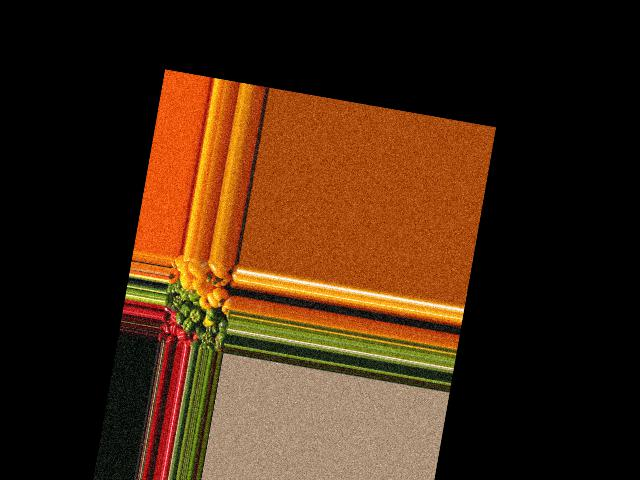bell_pepper: (213, 335, 227, 352)
